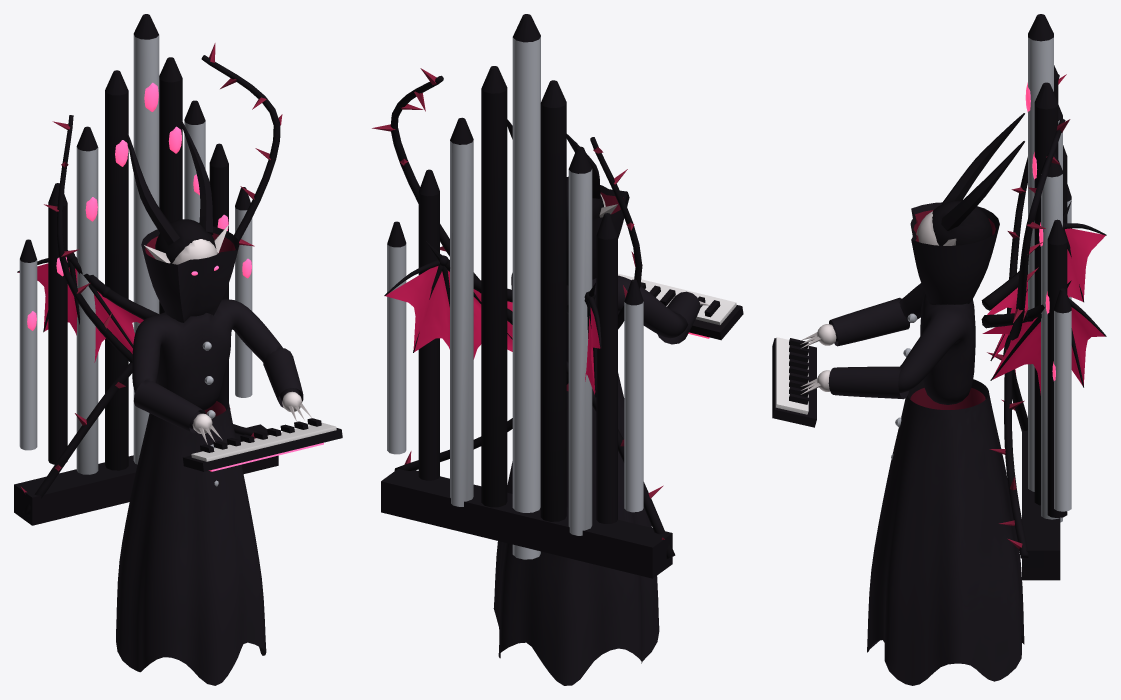
File: goth_organ.glb
The picture shows the model from 3 angles, left to right: view 1: azimuth 30°, elevation 25°; view 2: azimuth 150°, elevation 25°; view 3: azimuth 270°, elevation 25°; orthographic projection. The views are drawn at different scales.
Parts seen in each view (by area): view 1: body, wing_L_a; view 2: body, wing_R_a, wing_L_a; view 3: body, wing_R_a, wing_L_a.
Boxes of the visible parts, x1=… form: body: x1=14, y1=14, x2=342, y2=685; wing_L_a: x1=17, y1=250, x2=158, y2=362; body: x1=372, y1=14, x2=743, y2=685; wing_R_a: x1=384, y1=241, x2=512, y2=359; wing_L_a: x1=566, y1=283, x2=601, y2=397; body: x1=772, y1=14, x2=1071, y2=685; wing_R_a: x1=981, y1=280, x2=1106, y2=395; wing_L_a: x1=981, y1=201, x2=1106, y2=360.
Bounding box in the file's own units: 1.19 × 2.59 × 1.22.
